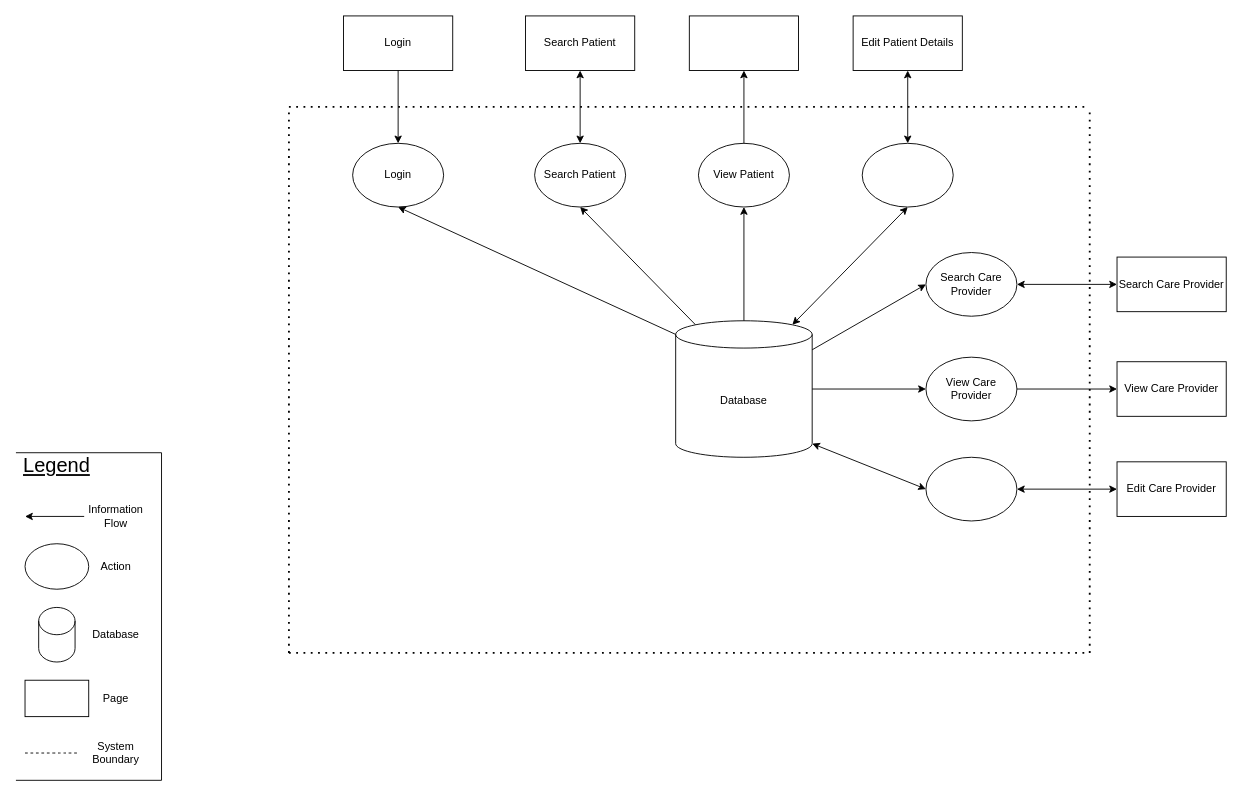
This 1242x797 diagram has some shape labels left out. Here are the shapes that lost their labels. From the top down, the box of each, then its label:
(688, 15, 799, 71): View Patient Details
(861, 142, 953, 207): Edit/Update Patient
(925, 456, 1017, 521): Edit/Update Care Provider
